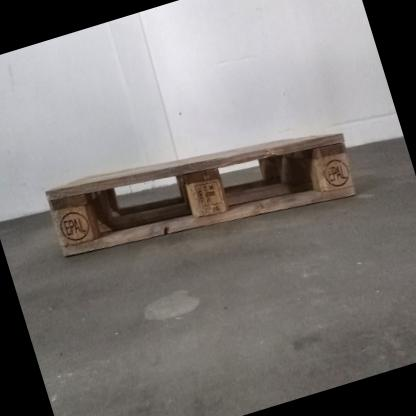BoxFace: (41, 124, 361, 260)
